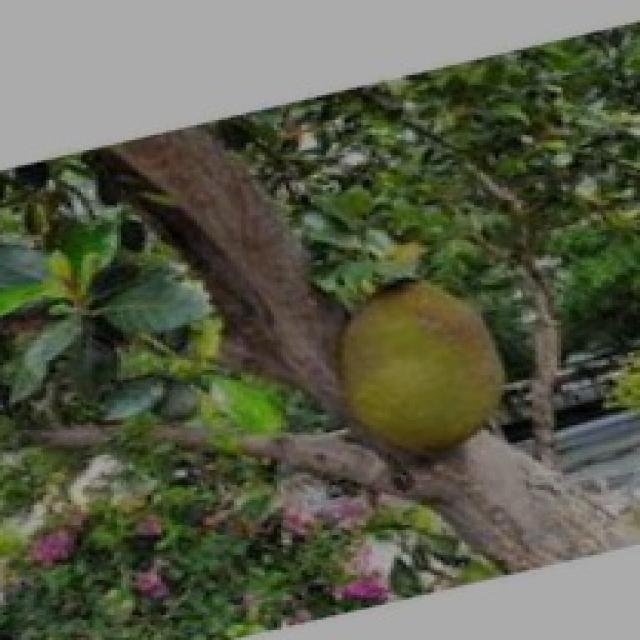Fruit: (302, 247, 536, 485)
